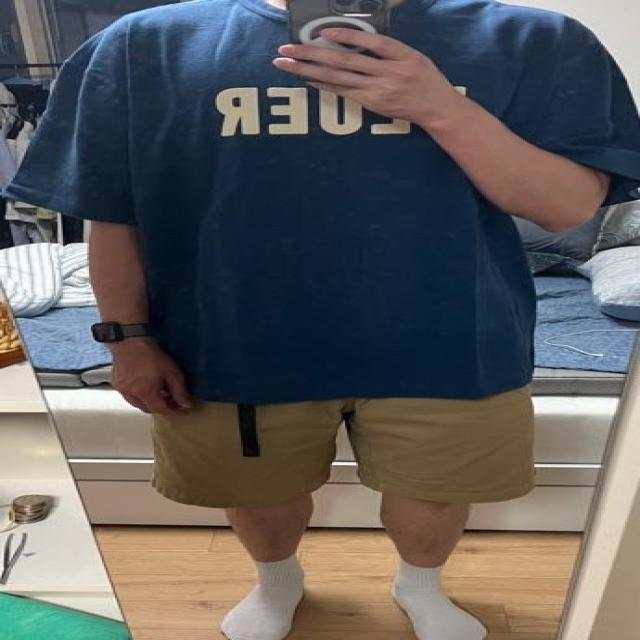shortpants: (150, 378, 538, 506)
shortsleeve: (9, 0, 640, 403)
